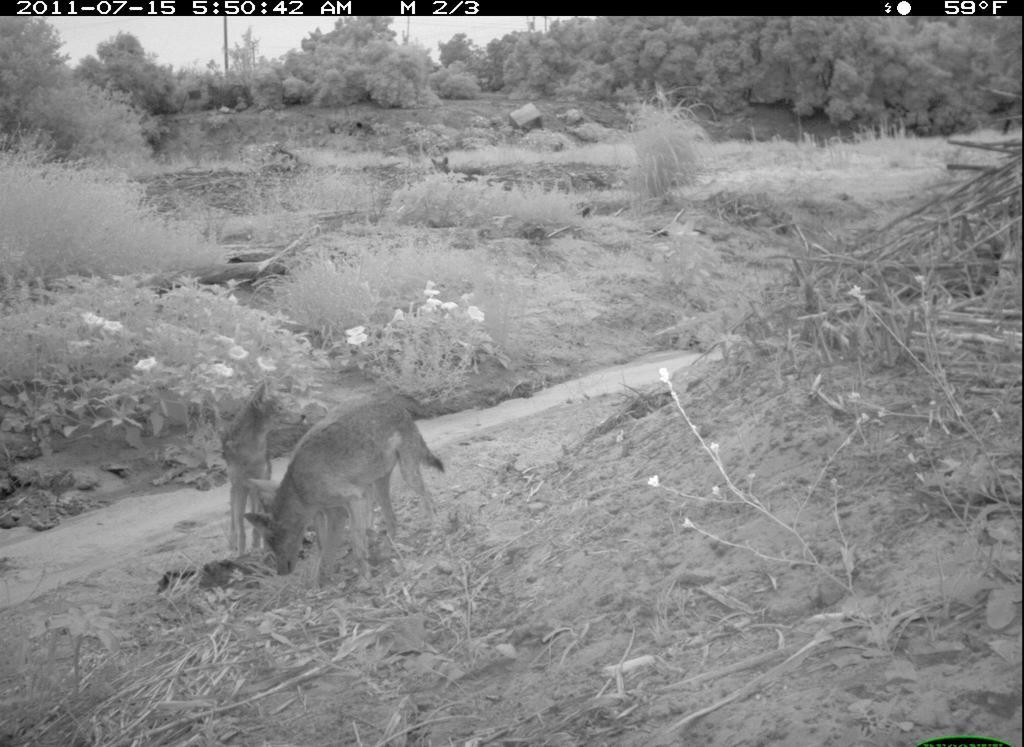coyote: (243, 399, 448, 590), (207, 381, 287, 570)
